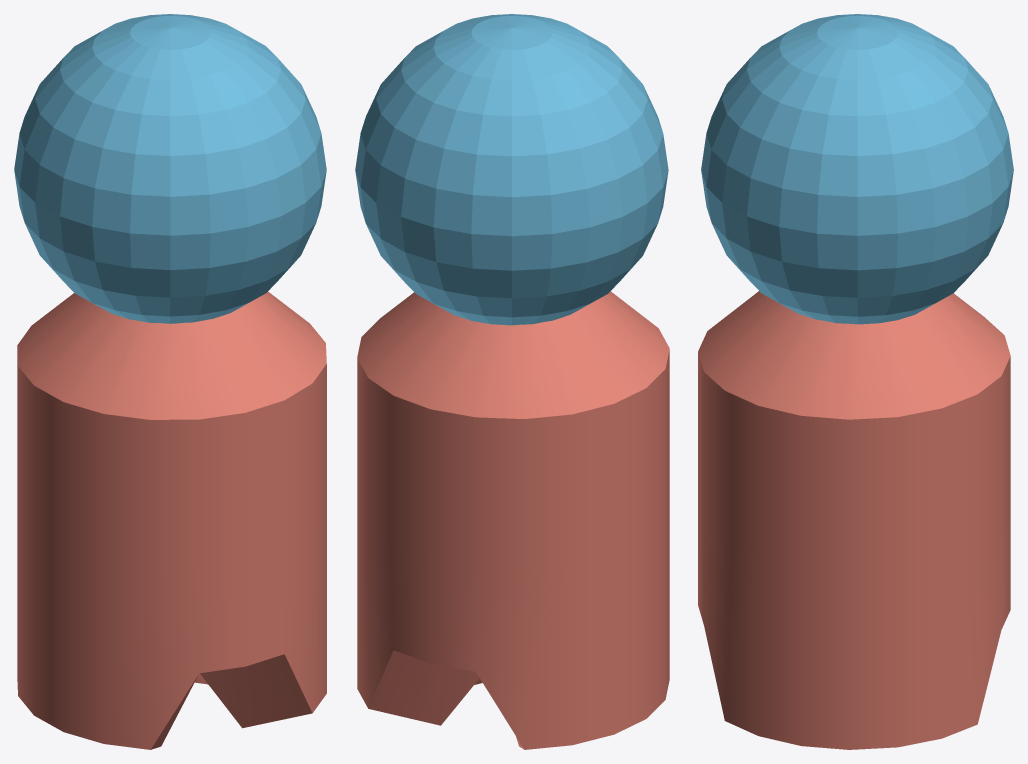
The model's file is red.gltf.
The picture shows the model from 3 angles, left to right: view 1: azimuth 30°, elevation 25°; view 2: azimuth 150°, elevation 25°; view 3: azimuth 270°, elevation 25°; orthographic projection.
Parts seen in each view (by area): view 1: Цилиндр, Сфера; view 2: Цилиндр, Сфера; view 3: Цилиндр, Сфера.
Boxes of the visible parts, box(x1,y1,x2,y2) form: Цилиндр: box(17, 291, 326, 749); Сфера: box(14, 14, 326, 323); Цилиндр: box(357, 291, 669, 749); Сфера: box(355, 14, 668, 325); Цилиндр: box(698, 291, 1010, 749); Сфера: box(701, 14, 1013, 324).
Size of the model in its own units: 1 by 2.42 by 1.01.
